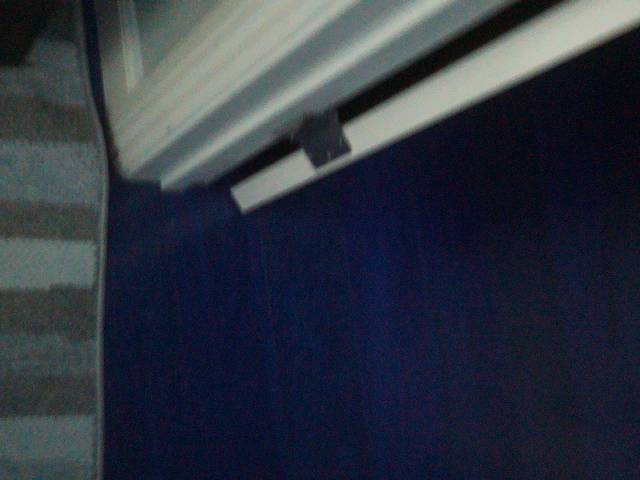shadow: (0, 284, 97, 344), (0, 360, 97, 418)
